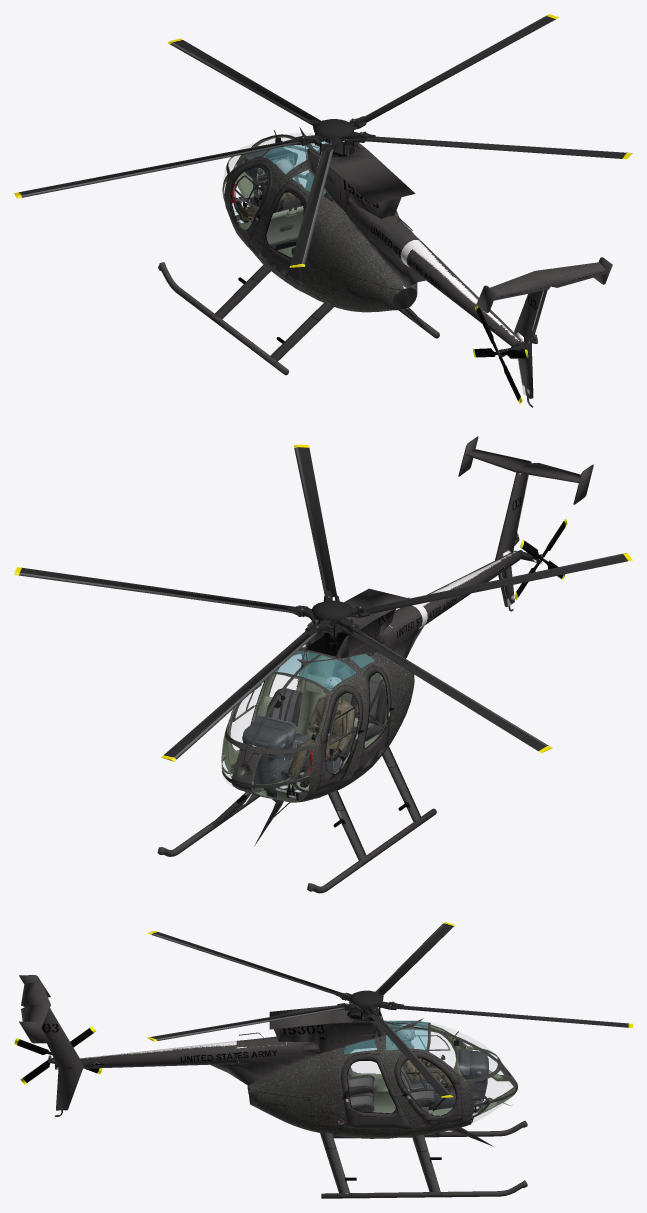
3 renders of one model, top to bottom at view 1: azimuth 30°, elevation 25°; view 2: azimuth 150°, elevation 25°; view 3: azimuth 270°, elevation 25°, orthographic. The views are drawn at different scales.
Visible parts, largest first — view 1: ext_fuse, rotor_blades, int_fuse, ext_fuse_skids, ext_fuse_doors, ixt_console, glasss_grn, rotor_tail, rotor_hub, ixt_pilot; view 2: ext_fuse, rotor_blades, ixt_console, ext_fuse_doors, ext_fuse_skids, int_fuse, ixt_pilot, glasss_grn, ixt_seatRL, glass, rotor_hub, ixt_seatFR (+1 smaller); view 3: ext_fuse, rotor_blades, ext_fuse_doors, int_fuse, ext_fuse_skids, ixt_console, glass, glasss_grn, rotor_tail, ixt_pilot, rotor_hub, int_fuse_floor (+3 smaller).
Boxes of the visible parts, <box> form: ext_fuse: <box>222,127,612,407</box>; rotor_blades: <box>14,14,632,267</box>; int_fuse: <box>222,136,416,311</box>; ext_fuse_skids: <box>158,262,439,375</box>; ext_fuse_doors: <box>228,160,308,284</box>; ixt_console: <box>231,147,325,250</box>; glasss_grn: <box>263,141,328,195</box>; rotor_tail: <box>473,305,528,404</box>; rotor_hub: <box>314,119,353,156</box>; ixt_pilot: <box>233,159,304,231</box>; ext_fuse: <box>221,436,593,846</box>; rotor_blades: <box>14,444,632,761</box>; ixt_console: <box>242,653,358,797</box>; ext_fuse_doors: <box>227,651,393,789</box>; ext_fuse_skids: <box>157,746,436,893</box>; int_fuse: <box>221,648,414,800</box>; ixt_pilot: <box>280,676,354,787</box>; glasss_grn: <box>275,646,374,690</box>; ixt_seatRL: <box>350,677,387,741</box>; glass: <box>223,674,297,787</box>; rotor_hub: <box>312,600,352,644</box>; ixt_seatFR: <box>266,688,302,732</box>; ext_fuse: <box>19,975,517,1146</box>; rotor_blades: <box>147,922,632,1097</box>; ext_fuse_doors: <box>341,1022,462,1129</box>; int_fuse: <box>248,1021,515,1138</box>; ext_fuse_skids: <box>320,1120,527,1198</box>; ixt_console: <box>344,1035,488,1113</box>; glass: <box>351,1023,512,1123</box>; glasss_grn: <box>344,1020,427,1054</box>; rotor_tail: <box>14,1026,102,1084</box>; ixt_pilot: <box>398,1022,452,1087</box>; rotor_hub: <box>349,990,383,1020</box>; int_fuse_floor: <box>373,1091,471,1123</box>.
Bounding box in the file's own units: 7.65 × 3.22 × 9.27.
14 materials, 11 textured.
